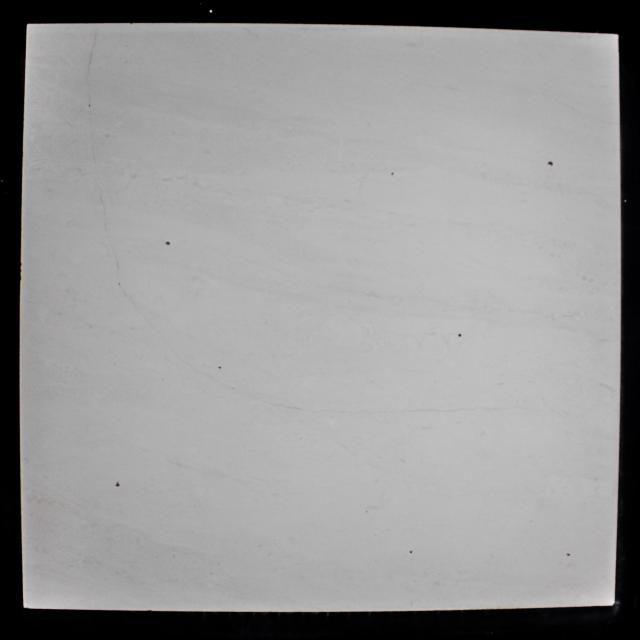hole: (164, 240, 172, 247), (547, 160, 554, 167), (389, 171, 396, 177), (114, 482, 120, 488), (217, 365, 223, 370), (566, 552, 572, 557), (458, 332, 462, 338), (410, 549, 414, 555), (88, 104, 93, 108)
line: (174, 353, 214, 379), (408, 405, 481, 413), (87, 32, 98, 75), (269, 402, 306, 412), (121, 289, 130, 300)
